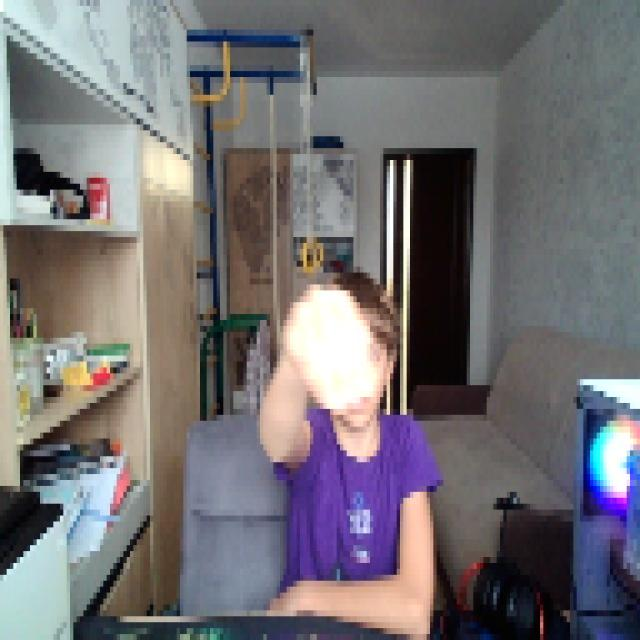left_click: (280, 273, 367, 403)
